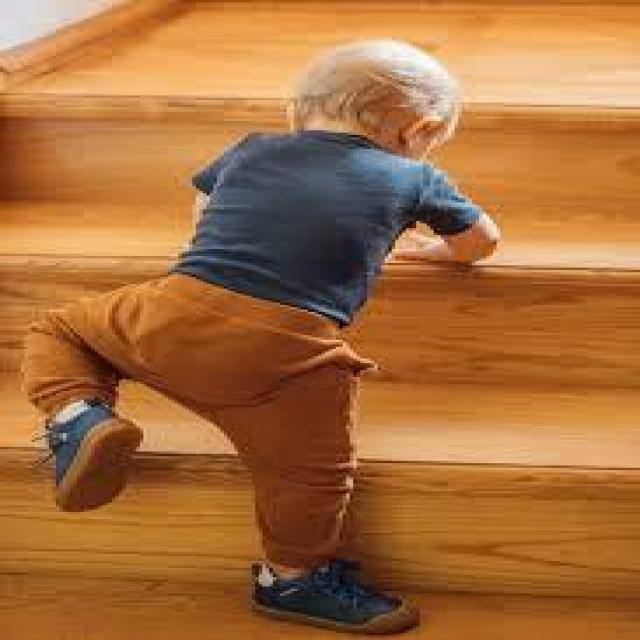child: (24, 44, 510, 640)
